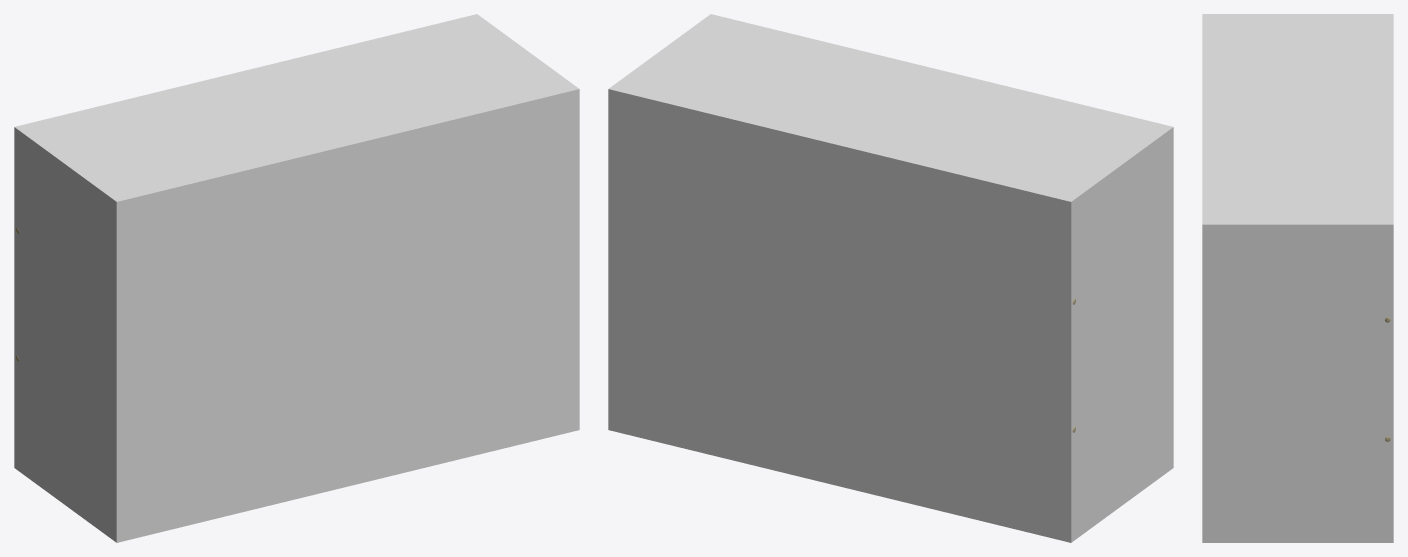
File: 80311487_Комод_Sherlock_tex.glb
3 renders of one model, left to right at view 1: azimuth 30°, elevation 25°; view 2: azimuth 150°, elevation 25°; view 3: azimuth 270°, elevation 25°, orthographic. The views are drawn at different scales.
Visible parts, largest first — view 1: Box001; view 2: Box001; view 3: Box001.
Part boxes in pixels (box(x1,y1,x2,y2)): Box001: box(14, 14, 579, 542); Box001: box(608, 14, 1173, 542); Box001: box(1202, 14, 1393, 542).
Bounding box in the file's own units: 1.2 × 0.8451 × 0.4605.
Materials: 2 (1 with a texture image).
